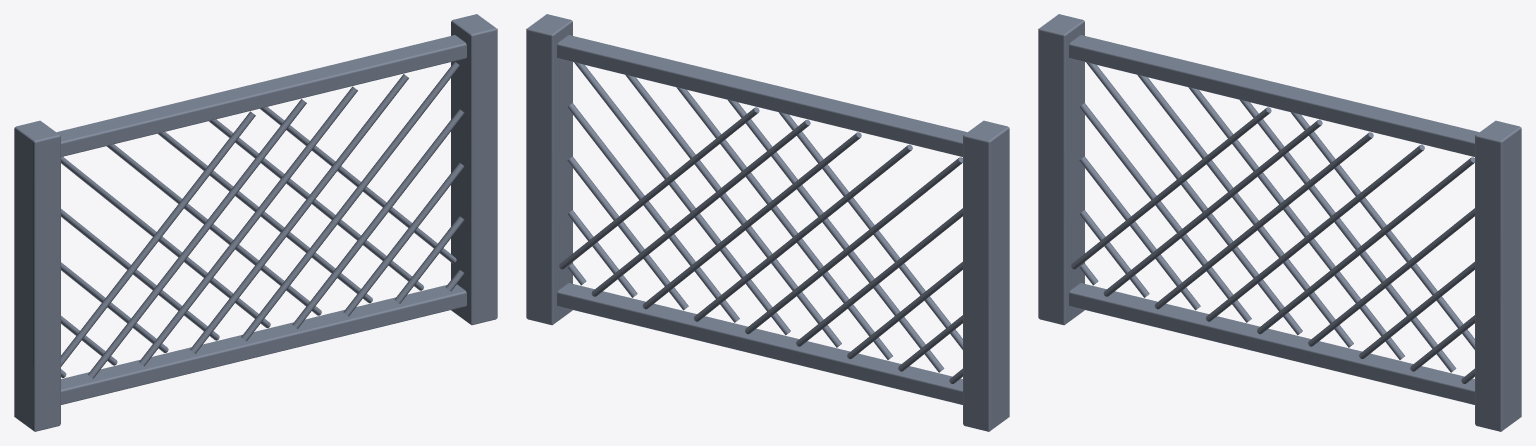
File: 格栅围栏-lite.glb
3 renders of one model, left to right at view 1: azimuth 30°, elevation 25°; view 2: azimuth 150°, elevation 25°; view 3: azimuth 330°, elevation 25°, orthographic.
Visible parts, largest first — view 1: garden-fence-lattice; view 2: garden-fence-lattice; view 3: garden-fence-lattice.
Boxes of the visible parts, x1,y1,x2,y2 form: garden-fence-lattice: (14,14,497,431); garden-fence-lattice: (526,14,1009,431); garden-fence-lattice: (1038,14,1521,431).
Bounding box in the file's own units: 2 × 1.2 × 0.16.
